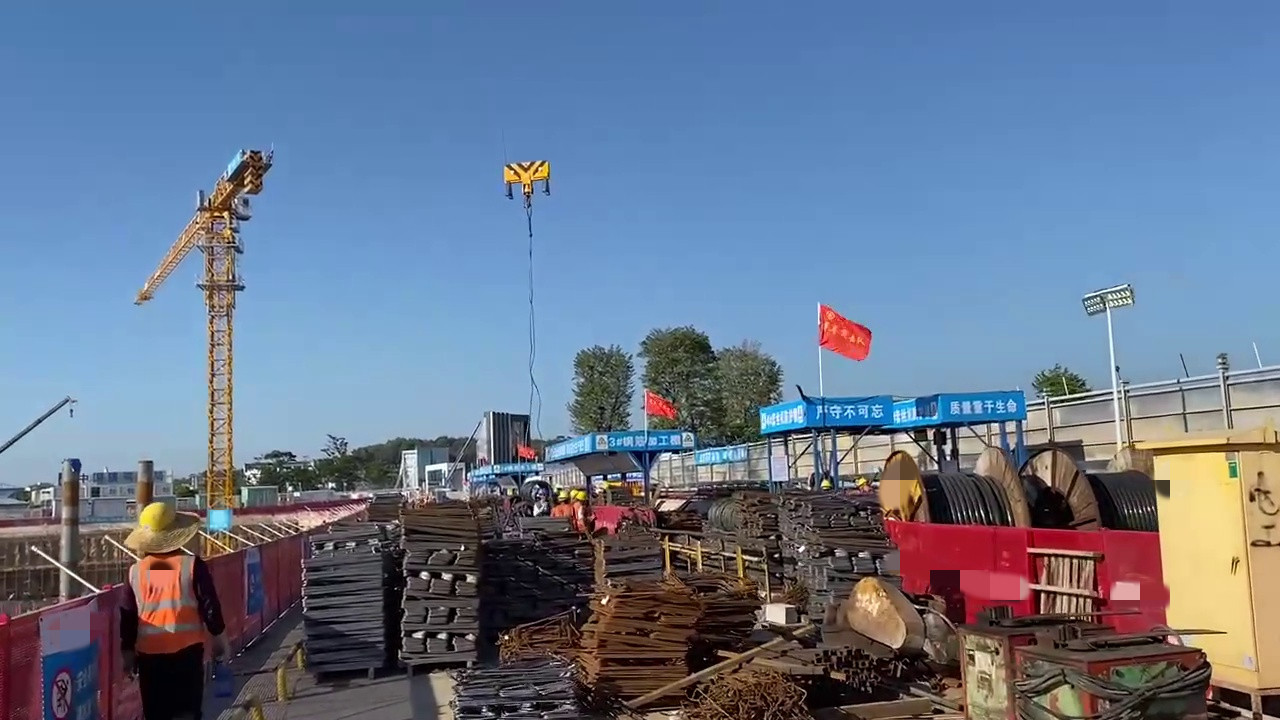ebox: (1133, 432, 1280, 695)
fence: (882, 519, 1157, 631), (1, 592, 116, 720), (219, 541, 292, 663)
helmet: (136, 501, 177, 528)
hook: (503, 159, 550, 188)
person: (120, 505, 222, 720), (573, 491, 595, 536), (551, 491, 571, 520)
rebar: (399, 488, 489, 665), (578, 585, 703, 703), (297, 517, 393, 670), (780, 497, 851, 638), (692, 645, 804, 720), (502, 615, 582, 670), (812, 636, 887, 686)
slogan: (808, 400, 896, 423), (943, 393, 1027, 416)
vest: (128, 557, 201, 657)
